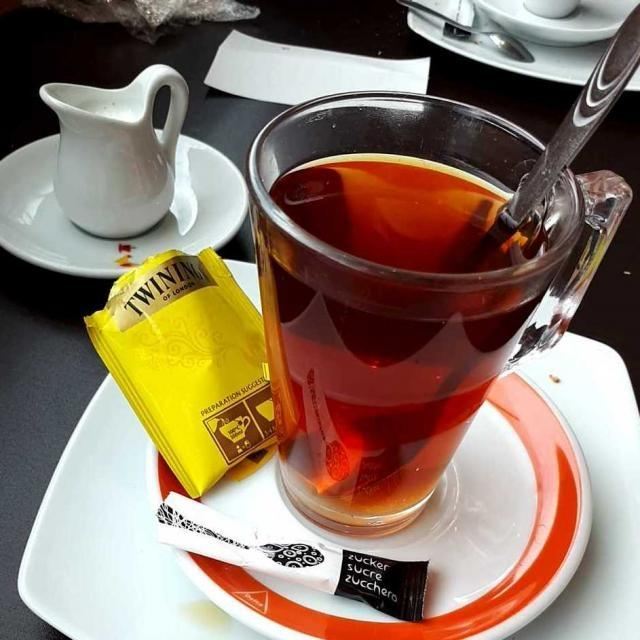milk: (49, 67, 201, 222)
tea: (272, 151, 601, 506)
